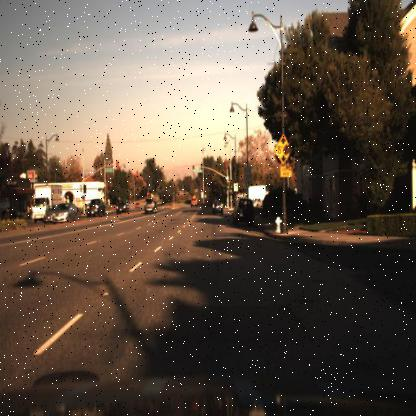car: (233, 196, 255, 228), (83, 194, 110, 220), (86, 196, 108, 218), (112, 195, 133, 218), (53, 204, 79, 221), (142, 193, 158, 216), (45, 200, 57, 228), (209, 198, 223, 216), (212, 198, 224, 213)
trafficLight-Green: (191, 160, 197, 174), (226, 180, 230, 195), (229, 181, 233, 193)
trafficLight-Red: (170, 179, 176, 192)
truck: (30, 184, 63, 224), (24, 181, 48, 224), (245, 175, 268, 201)
